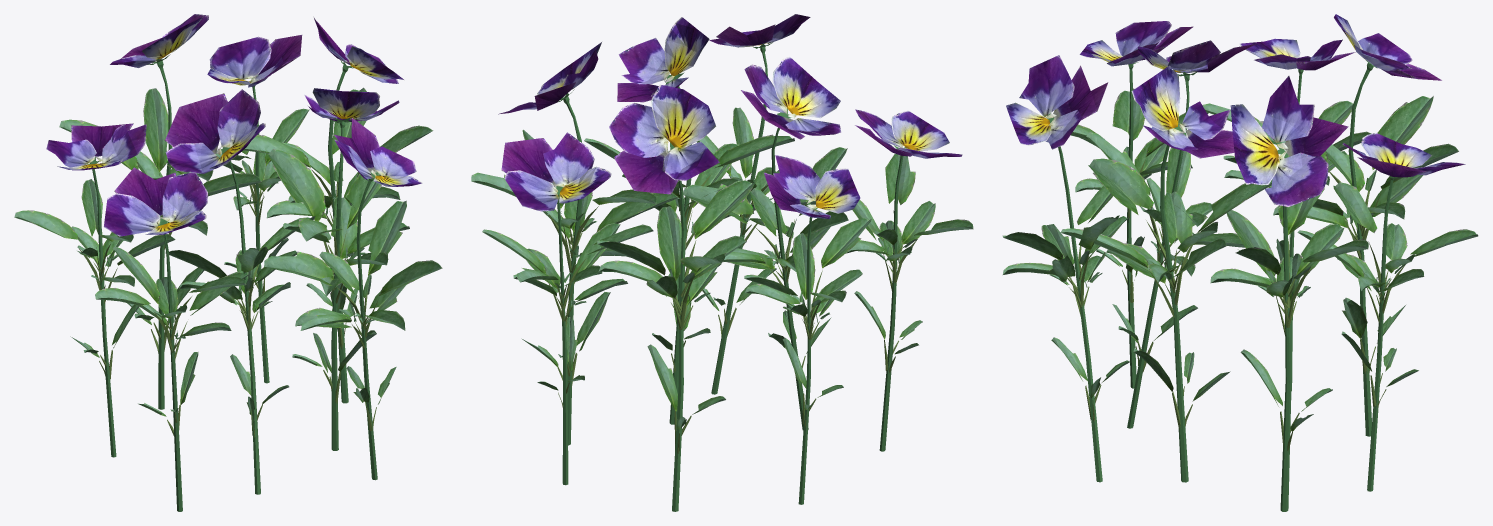
The model's file is sh-scopia-pansy.glb.
3 views of the same model, side by side, from view 1: azimuth 30°, elevation 25°; view 2: azimuth 150°, elevation 25°; view 3: azimuth 270°, elevation 25° (orthographic). The views are drawn at different scales.
Visible parts, largest first — view 1: Trunk.006, PansyFlower.001; view 2: Trunk.006, PansyFlower.001; view 3: Trunk.006, PansyFlower.001.
Part boxes in pixels (left/top/right/bottom): Trunk.006: left=14, top=54, right=442, bottom=511; PansyFlower.001: left=46, top=14, right=422, bottom=236; Trunk.006: left=471, top=42, right=973, bottom=511; PansyFlower.001: left=498, top=14, right=962, bottom=218; Trunk.006: left=1002, top=60, right=1478, bottom=511; PansyFlower.001: left=1006, top=14, right=1465, bottom=207.
Bounding box in the file's own units: 1 × 0.9763 × 0.9938.
4 materials, 2 textured.
